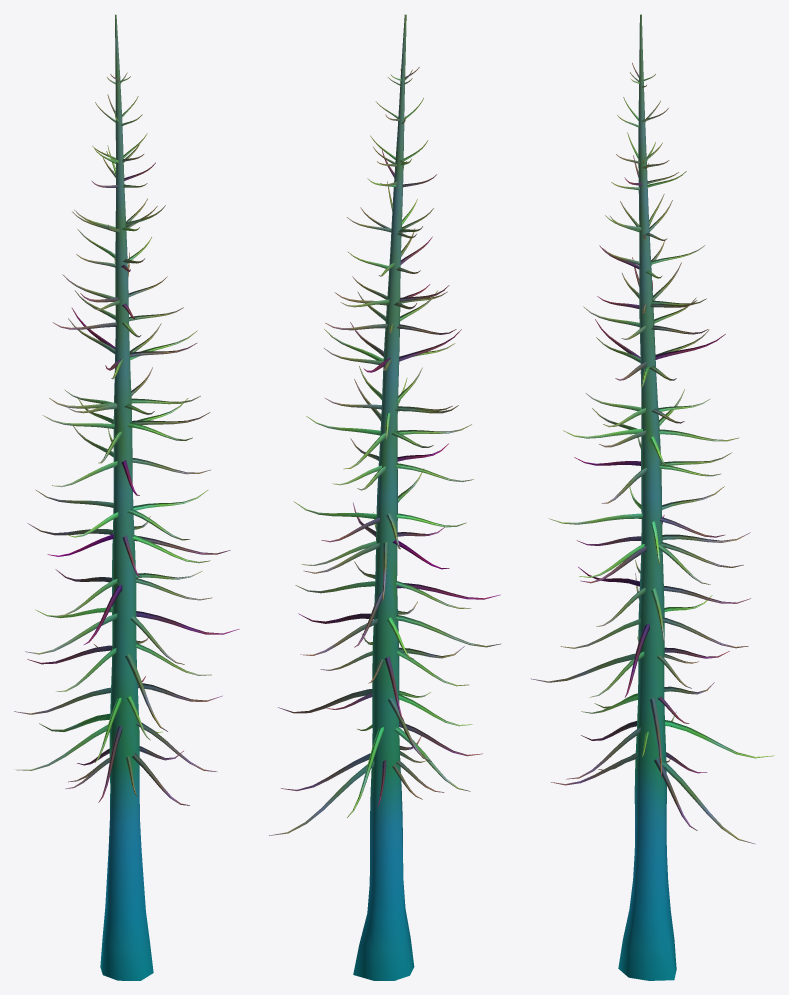
The model's file is spruce-grove-b.glb.
3 views of the same model, side by side, from view 1: azimuth 30°, elevation 25°; view 2: azimuth 150°, elevation 25°; view 3: azimuth 270°, elevation 25° (orthographic).
Parts seen in each view (by area): view 1: bark; view 2: bark; view 3: bark.
Part boxes in pixels (x1,y1,x2,y2): bark: [14, 14, 239, 980]; bark: [269, 14, 500, 980]; bark: [530, 14, 774, 980].
Bounding box in the file's own units: 5.17 × 22.46 × 5.25.
